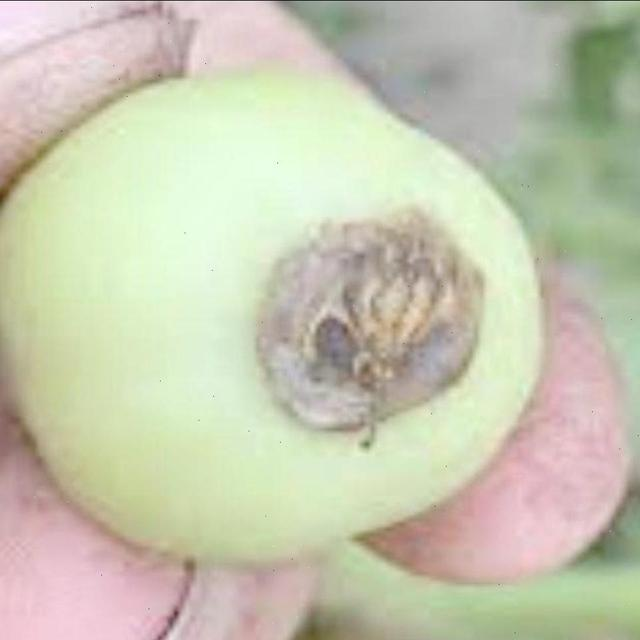Blossom End Rot Fruit: (176, 139, 323, 289)
